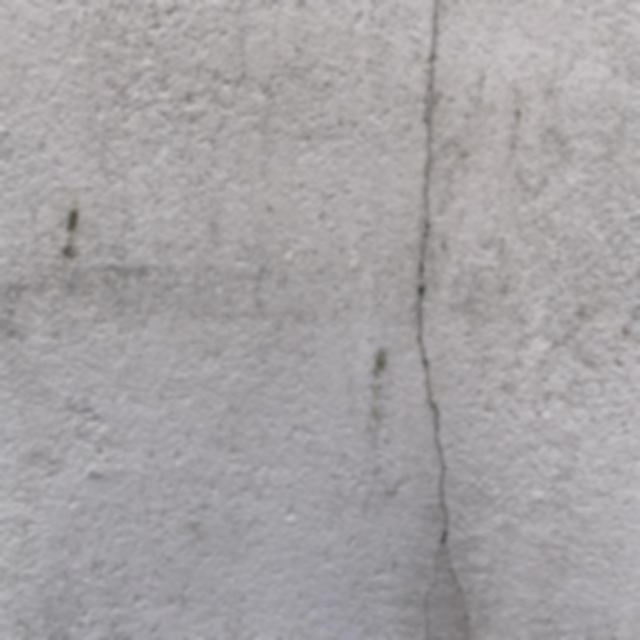SurfaceCrack: (369, 1, 495, 640)
